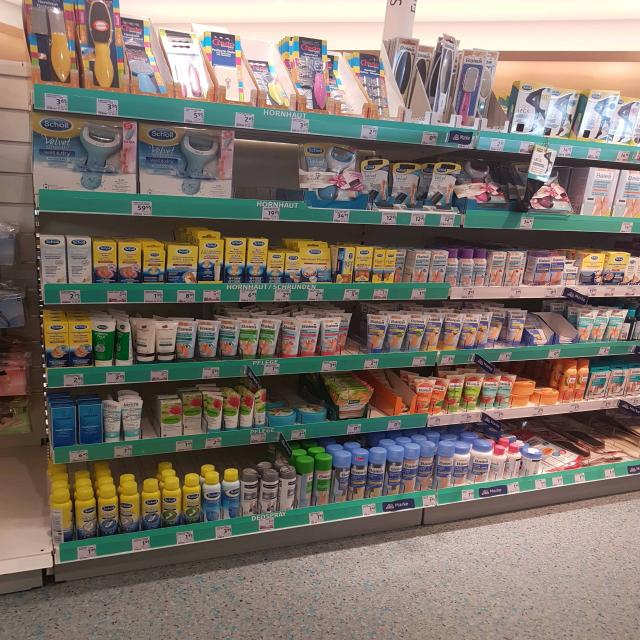void: (240, 119, 296, 206)
